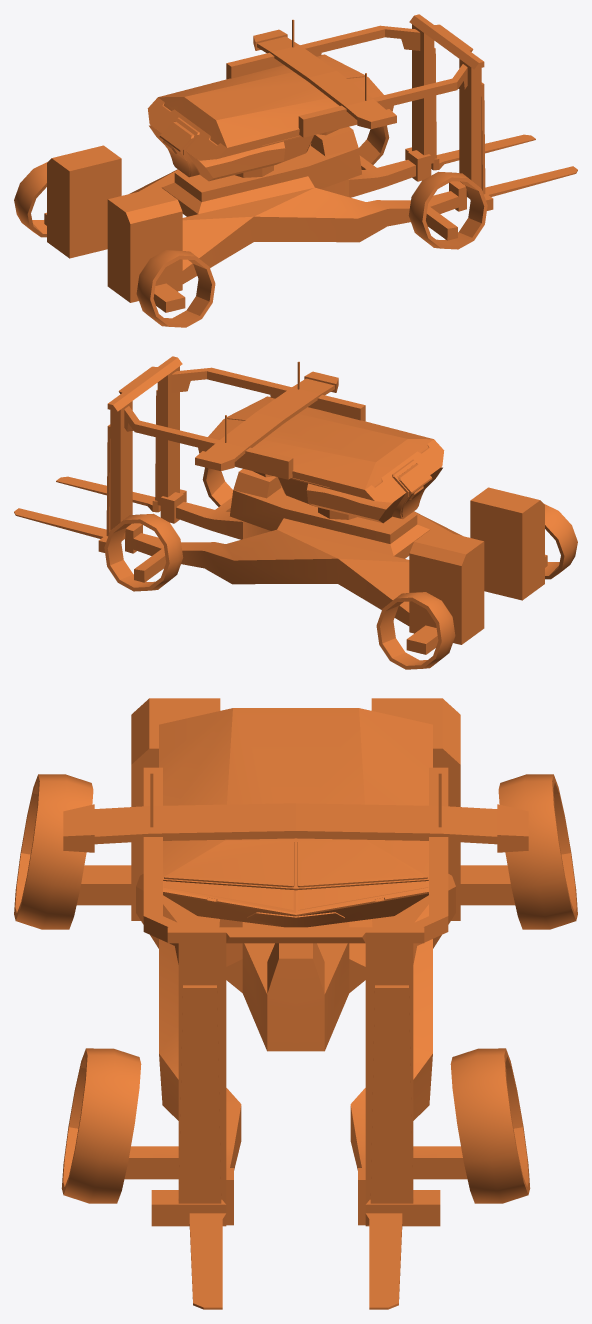
Rendered from Chariot.fbx.
The picture shows the model from 3 angles, top to bottom: view 1: azimuth 30°, elevation 25°; view 2: azimuth 150°, elevation 25°; view 3: azimuth 270°, elevation 25°; orthographic projection. The views are drawn at different scales.
Visible parts, largest first — view 1: Chariot, RoverFinalMDRLOLPD.010, RoverFinalMDRLOLPD.008, RoverFinalMDRLOLPD.009, RoverFinalMDRLOLPD.001, RoverFinalMDRLOLPD.011, RoverFinalMDRLOLPD.012; view 2: Chariot, RoverFinalMDRLOLPD.010, RoverFinalMDRLOLPD.011, RoverFinalMDRLOLPD.012, RoverFinalMDRLOLPD.001, RoverFinalMDRLOLPD.008, RoverFinalMDRLOLPD.009; view 3: RoverFinalMDRLOLPD.010, Chariot, RoverFinalMDRLOLPD.001, RoverFinalMDRLOLPD.009, RoverFinalMDRLOLPD.012, RoverFinalMDRLOLPD.008, RoverFinalMDRLOLPD.011.
Boxes of the visible parts, <box> form: Chariot: <box>44,14,484,312</box>; RoverFinalMDRLOLPD.010: <box>147,19,396,181</box>; RoverFinalMDRLOLPD.008: <box>136,250,215,327</box>; RoverFinalMDRLOLPD.009: <box>408,171,487,249</box>; RoverFinalMDRLOLPD.001: <box>405,48,577,210</box>; RoverFinalMDRLOLPD.011: <box>14,162,47,237</box>; RoverFinalMDRLOLPD.012: <box>358,125,389,164</box>; Chariot: <box>107,356,547,654</box>; RoverFinalMDRLOLPD.010: <box>195,361,444,523</box>; RoverFinalMDRLOLPD.011: <box>376,592,455,669</box>; RoverFinalMDRLOLPD.012: <box>104,513,183,591</box>; RoverFinalMDRLOLPD.001: <box>14,390,186,552</box>; RoverFinalMDRLOLPD.008: <box>544,504,577,579</box>; RoverFinalMDRLOLPD.009: <box>202,467,233,506</box>; RoverFinalMDRLOLPD.010: <box>63,708,528,927</box>; Chariot: <box>76,698,515,1225</box>; RoverFinalMDRLOLPD.001: <box>151,985,440,1309</box>; RoverFinalMDRLOLPD.009: <box>61,1048,141,1203</box>; RoverFinalMDRLOLPD.012: <box>450,1048,530,1203</box>; RoverFinalMDRLOLPD.008: <box>14,774,93,929</box>; RoverFinalMDRLOLPD.011: <box>498,774,577,929</box>.
Bounding box in the file's own units: 1821 × 663 × 949.
